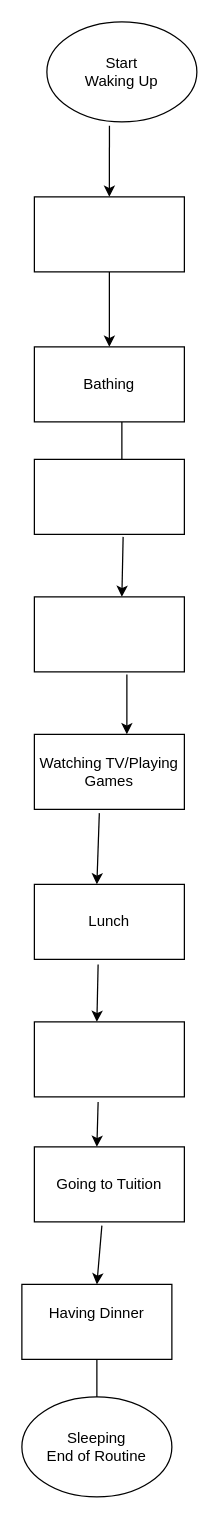
Some shapes in this 219 by 1519 pixel diagram are drawn without their labels. Here are the shapes that lost their labels. From the top down, the centre of each, then its label:
[108,234]: Brushing Teeth
[108,496]: Breakfast
[108,634]: Studying
[108,1059]: Sleeping
